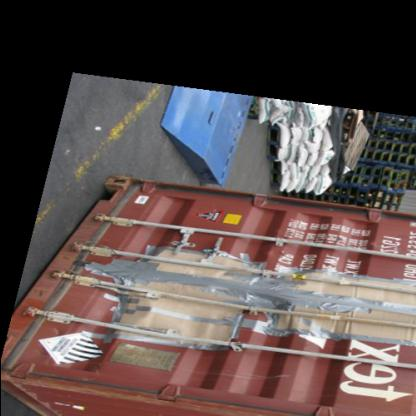Damage: (66, 268, 406, 376)
